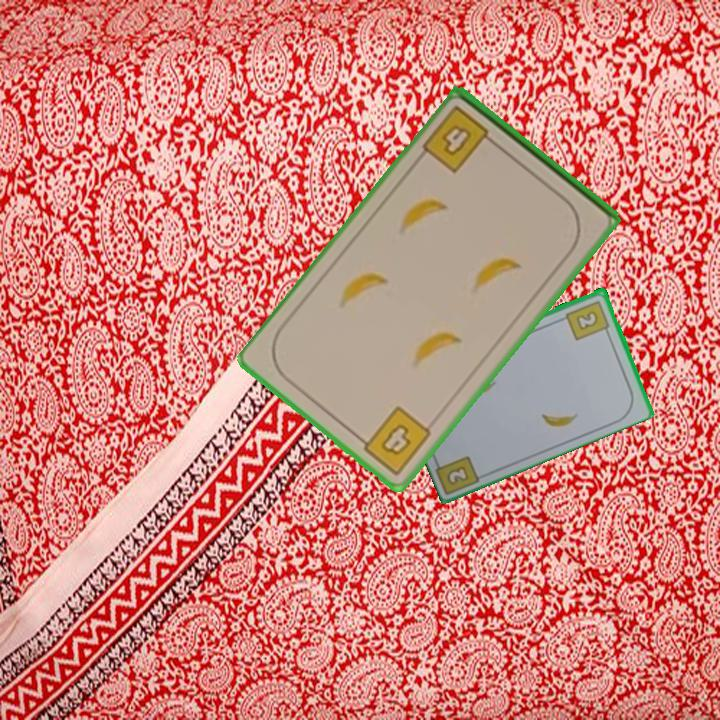2b: (563, 297, 613, 343), (445, 465, 469, 486)
4b: (352, 403, 435, 479), (418, 102, 501, 177)
